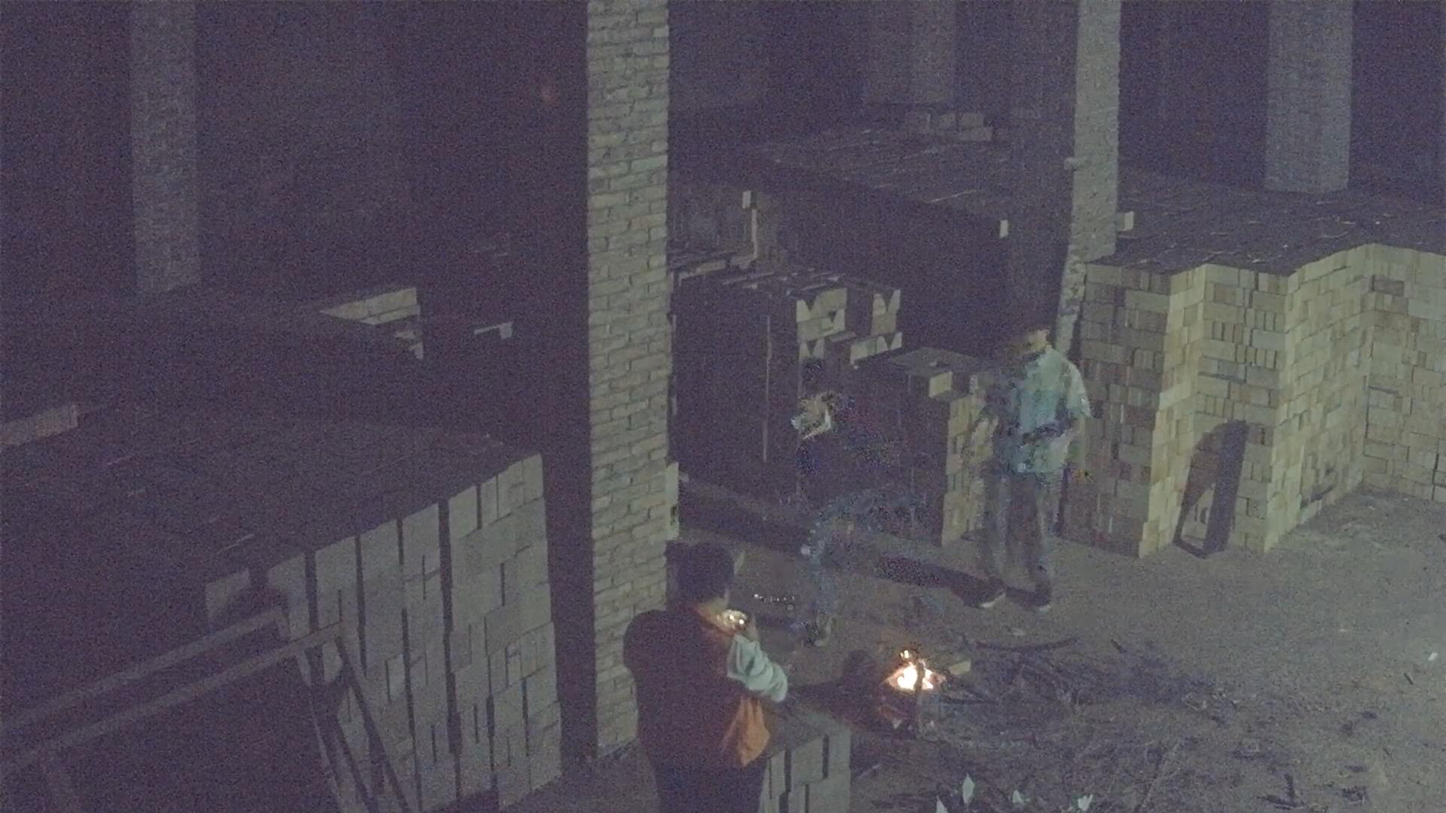fire: (883, 650, 944, 694)
